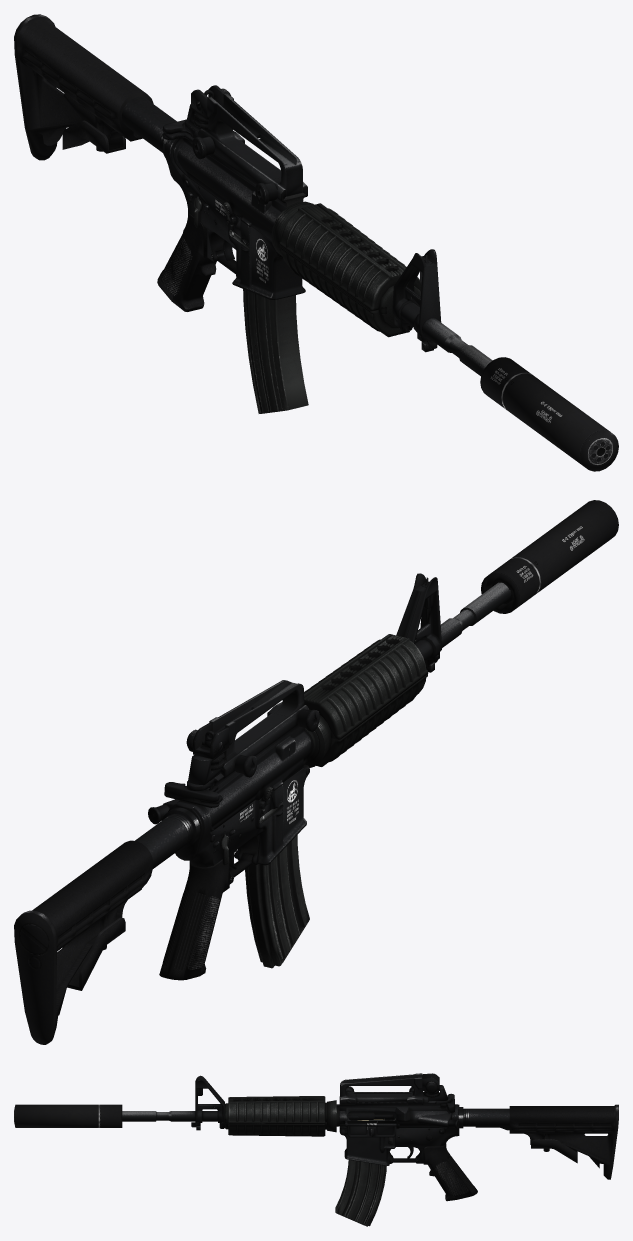
Rendered from m4a1-调整版.fbx.
The picture shows the model from 3 angles, top to bottom: view 1: azimuth 30°, elevation 25°; view 2: azimuth 150°, elevation 25°; view 3: azimuth 270°, elevation 25°; orthographic projection. The views are drawn at different scales.
Visible parts, largest first — view 1: 6, 7, 4, 3, 8, 9, 11, 1, 2, 5; view 2: 6, 7, 8, 4, 3, 11, 9, 2, 1, 5; view 3: 6, 7, 11, 8, 3, 4, 9, 1, 2, 5.
Part boxes in pixels (x1,y1,x2,y2): 6: (14,14,153,160); 7: (271,201,421,337); 4: (186,85,307,204); 3: (480,357,618,471); 8: (164,138,305,299); 9: (243,289,308,413); 11: (162,119,306,240); 1: (392,249,492,375); 2: (157,210,221,311); 5: (122,97,176,157); 6: (14,840,152,1044); 7: (304,634,428,767); 8: (168,764,309,884); 4: (186,680,319,785); 3: (481,500,618,613); 11: (148,725,312,831); 9: (245,835,309,968); 2: (159,857,229,980); 1: (305,573,511,756); 5: (135,807,200,868); 6: (509,1104,618,1179); 7: (225,1096,338,1136); 11: (339,1093,459,1137); 8: (339,1104,459,1165); 3: (14,1104,122,1127); 4: (340,1073,448,1104); 9: (335,1118,386,1226); 1: (122,1075,339,1130); 2: (423,1143,477,1201); 5: (458,1107,509,1130).
Size of the model in its own units: 562 by 2171 by 7971.
10 materials, 10 textured.
